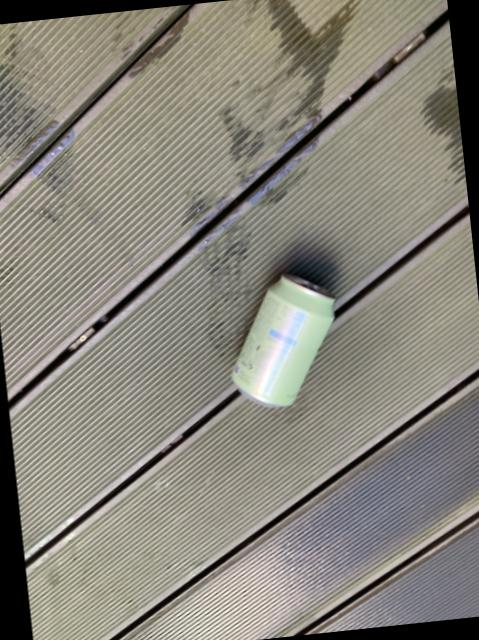metal: (232, 274, 333, 406)
